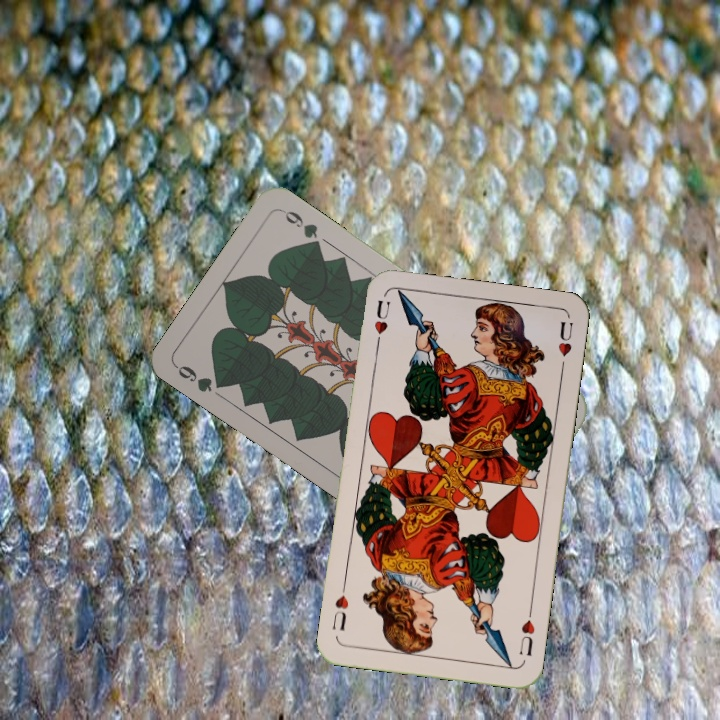G9: (171, 361, 230, 395)
HU: (370, 295, 393, 352), (515, 605, 538, 658)
